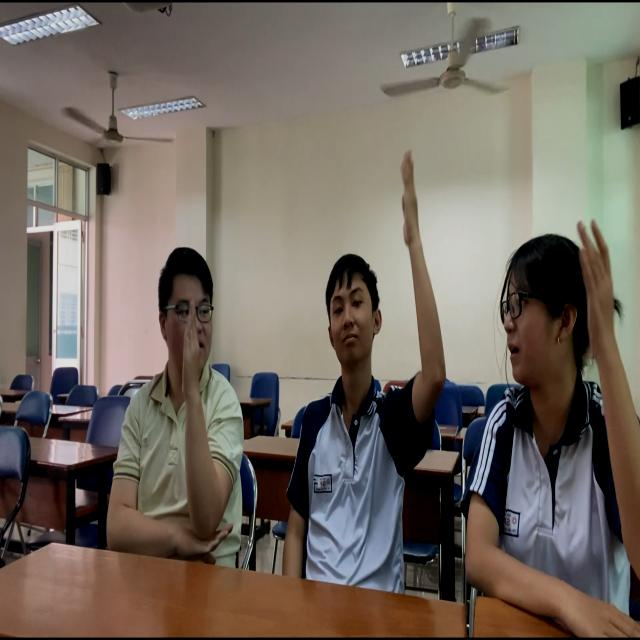raise_hand: (283, 142, 447, 590), (465, 217, 640, 633), (108, 200, 253, 552)
